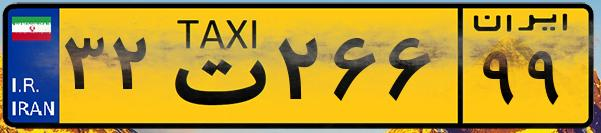2: (270, 28, 330, 110), (110, 28, 158, 98)
3: (57, 26, 110, 100)
6: (385, 28, 445, 110), (330, 28, 385, 110)
9: (475, 38, 525, 113), (525, 38, 570, 115)
ت: (158, 12, 270, 120)
